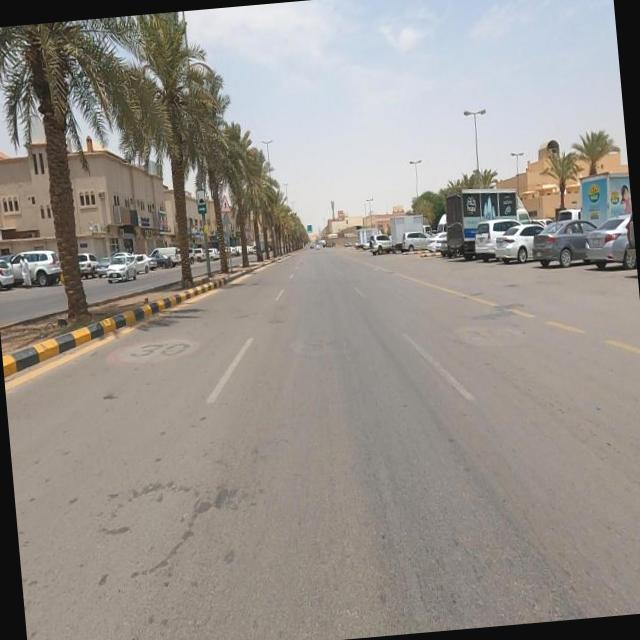debris: (96, 177, 146, 255)
